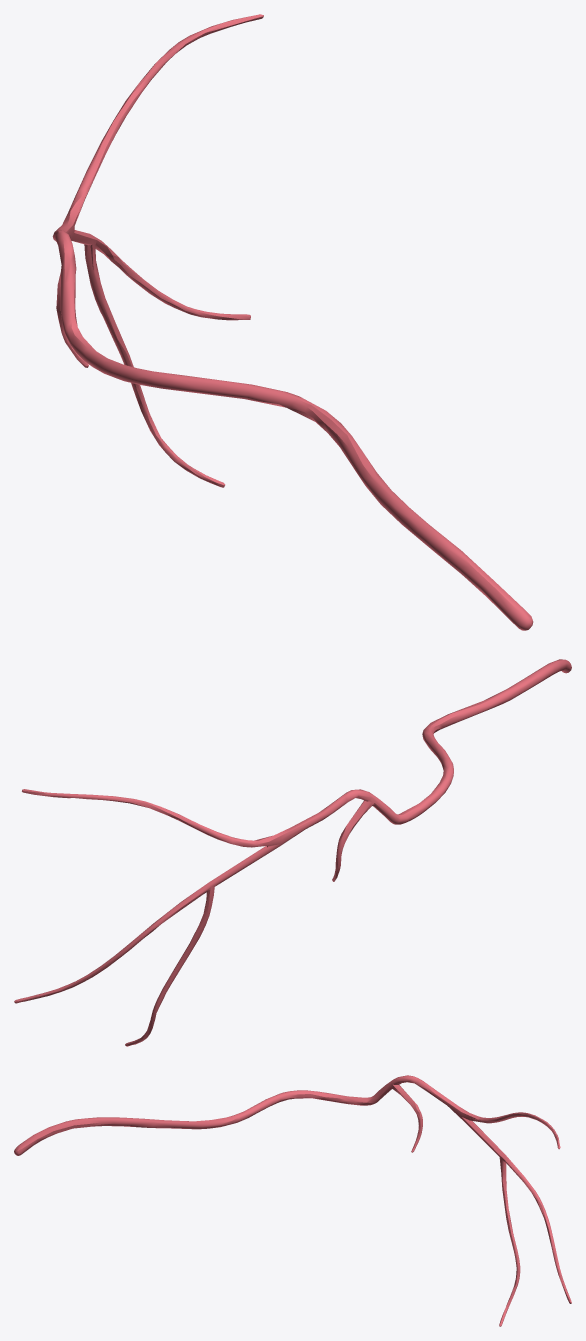
File: fma50473_fj5214.glb
The picture shows the model from 3 angles, top to bottom: view 1: azimuth 30°, elevation 25°; view 2: azimuth 150°, elevation 25°; view 3: azimuth 270°, elevation 25°; orthographic projection. The views are drawn at different scales.
Visible parts, largest first — view 1: FMA50473_FJ5214; view 2: FMA50473_FJ5214; view 3: FMA50473_FJ5214.
Part boxes in pixels (<box>): FMA50473_FJ5214: <box>52,14,533,630</box>; FMA50473_FJ5214: <box>14,659,571,1046</box>; FMA50473_FJ5214: <box>14,1075,571,1326</box>.
Size of the model in its own units: 0.0473 by 0.047 by 0.1156.
